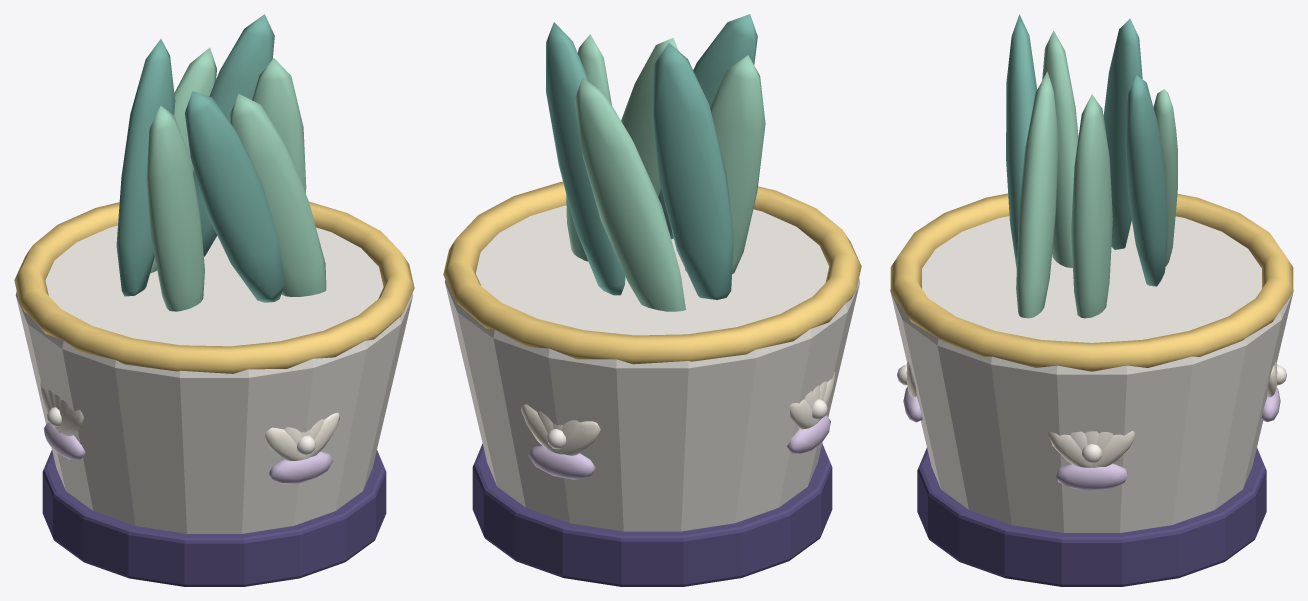
Rendered from pearl_shell_planter.glb.
3 renders of one model, left to right at view 1: azimuth 30°, elevation 25°; view 2: azimuth 150°, elevation 25°; view 3: azimuth 270°, elevation 25°, orthographic. The views are drawn at different scales.
Visible parts, largest first — view 1: pearl_shell_planter.001; view 2: pearl_shell_planter.001; view 3: pearl_shell_planter.001.
Part boxes in pixels (<box>): pearl_shell_planter.001: <box>14,14,414,586</box>; pearl_shell_planter.001: <box>443,14,861,586</box>; pearl_shell_planter.001: <box>890,14,1293,586</box>.
Size of the model in its own units: 4.08 by 5.32 by 4.05.
